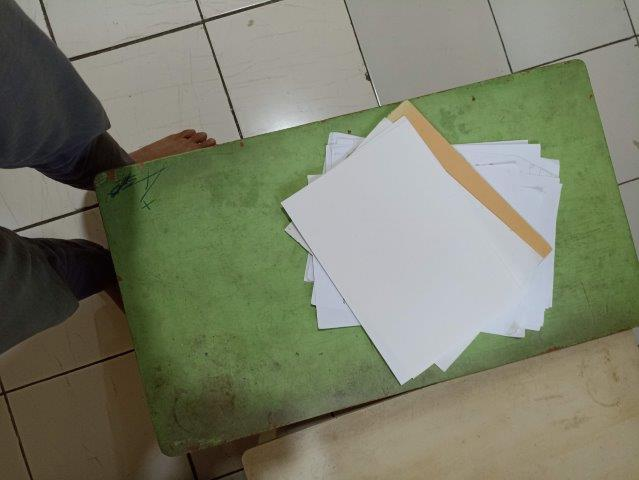kertas: (281, 100, 563, 385)
